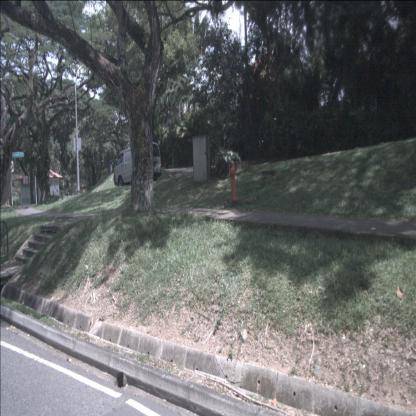vehicle-car: (113, 142, 162, 187)
